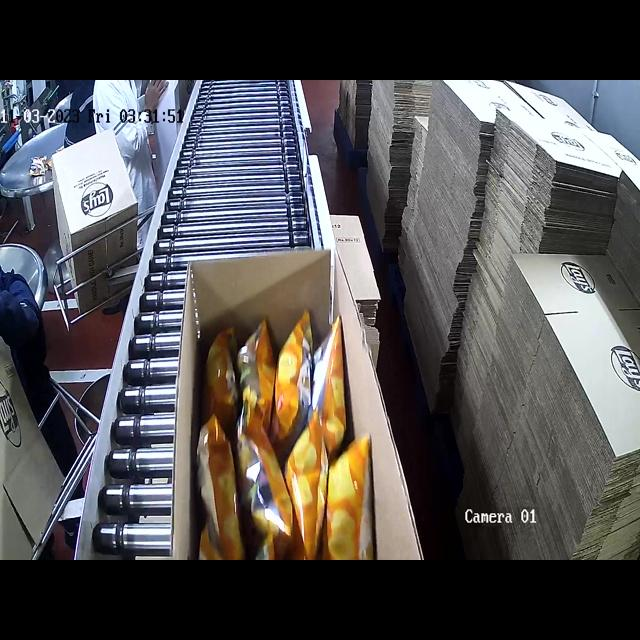cheese: (187, 325, 381, 560)
